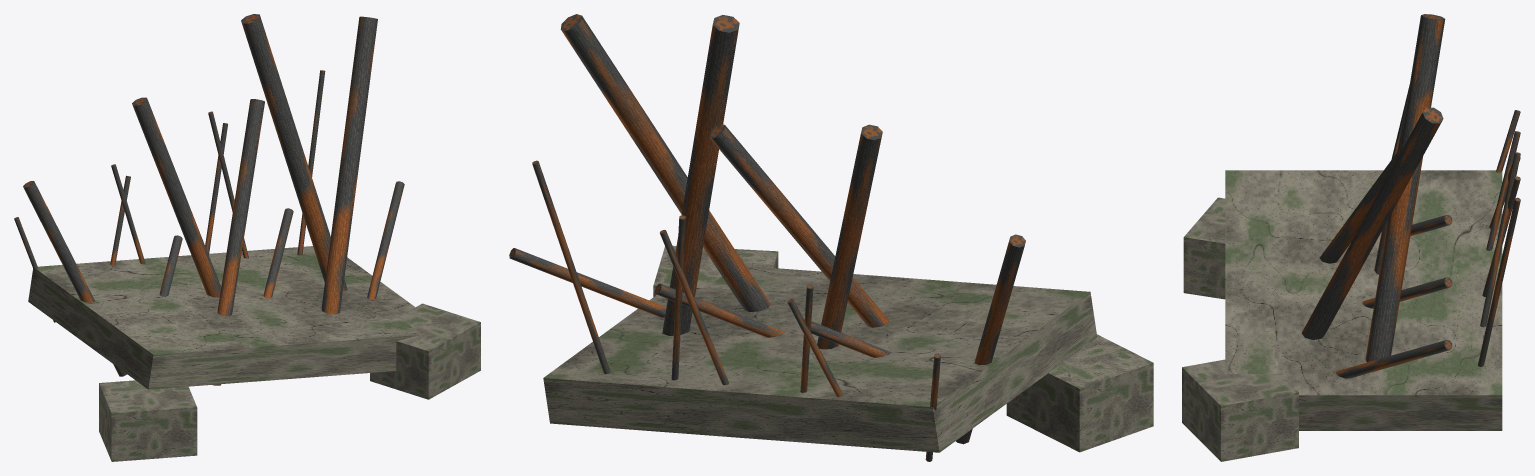
Rendered from steelWreck.glb.
3 renders of one model, left to right at view 1: azimuth 30°, elevation 25°; view 2: azimuth 150°, elevation 25°; view 3: azimuth 270°, elevation 25°, orthographic. The views are drawn at different scales.
Parts seen in each view (by area): view 1: b3_prop_steel_wreck_0; view 2: b3_prop_steel_wreck_0; view 3: b3_prop_steel_wreck_0.
Part boxes in pixels (box(x1,y1,x2,y2)): b3_prop_steel_wreck_0: box(14, 14, 480, 461); b3_prop_steel_wreck_0: box(509, 14, 1153, 461); b3_prop_steel_wreck_0: box(1182, 14, 1520, 461).
Bounding box in the file's own units: 3.39 × 2.65 × 2.2.
2 materials, 2 textured.
